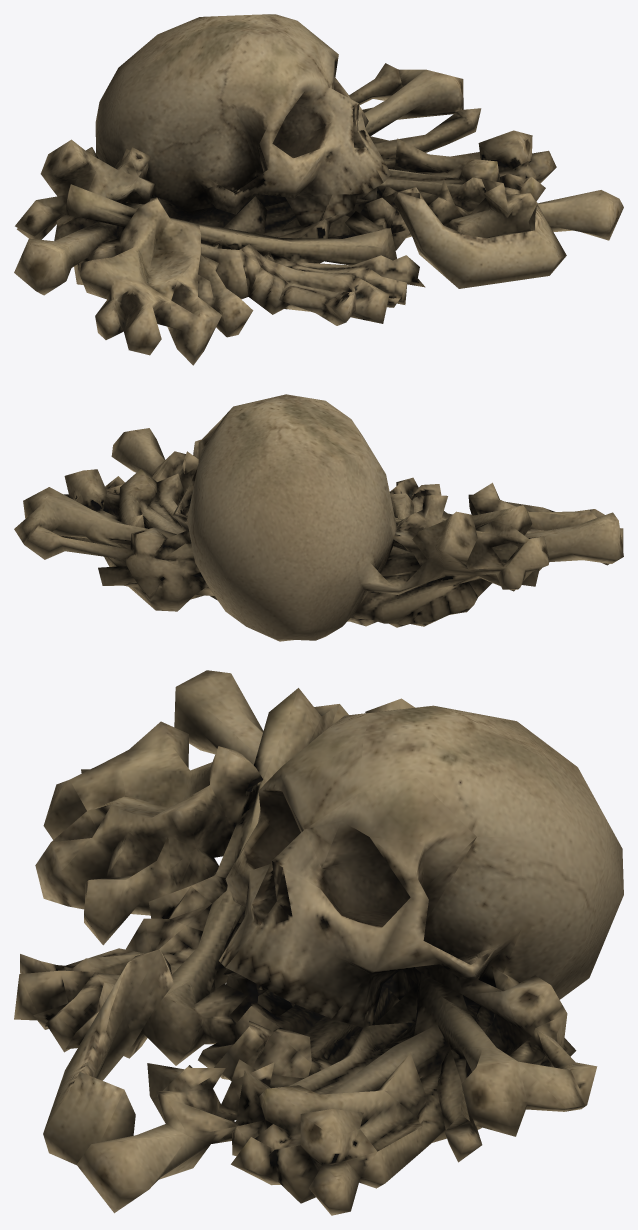
The model's file is mm8_deco_bonepile.glb.
The picture shows the model from 3 angles, top to bottom: view 1: azimuth 30°, elevation 25°; view 2: azimuth 150°, elevation 25°; view 3: azimuth 270°, elevation 25°; orthographic projection. The views are drawn at different scales.
Parts seen in each view (by area): view 1: Bonepile; view 2: Bonepile; view 3: Bonepile.
Boxes of the visible parts, x1=… form: Bonepile: x1=14, y1=14, x2=623, y2=365; Bonepile: x1=14, y1=394, x2=623, y2=641; Bonepile: x1=14, y1=670, x2=623, y2=1215.
Size of the model in its own units: 1.15 by 0.3995 by 0.7241.
1 material, 1 textured.
